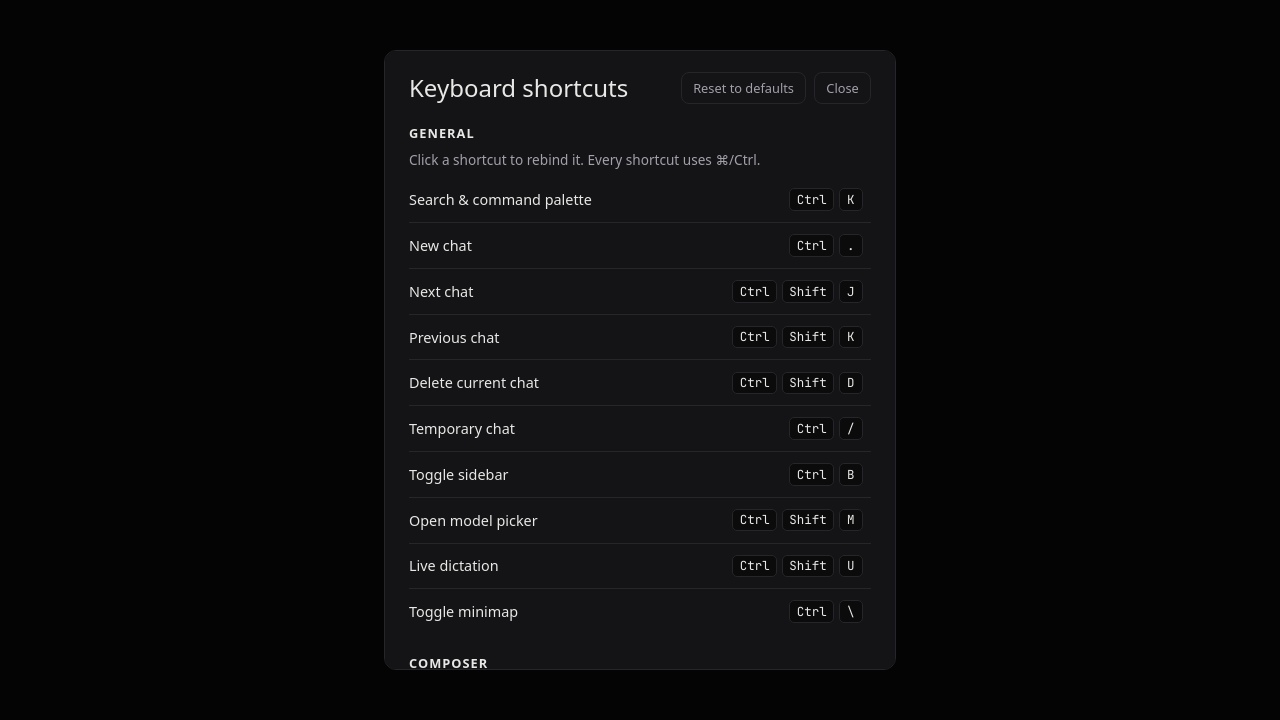
it: KeyboardSheet — rebinding › clicking a shortcut enters recording mode
Click the button "Ctrl B" at (826,474), box [781,459,871,490]
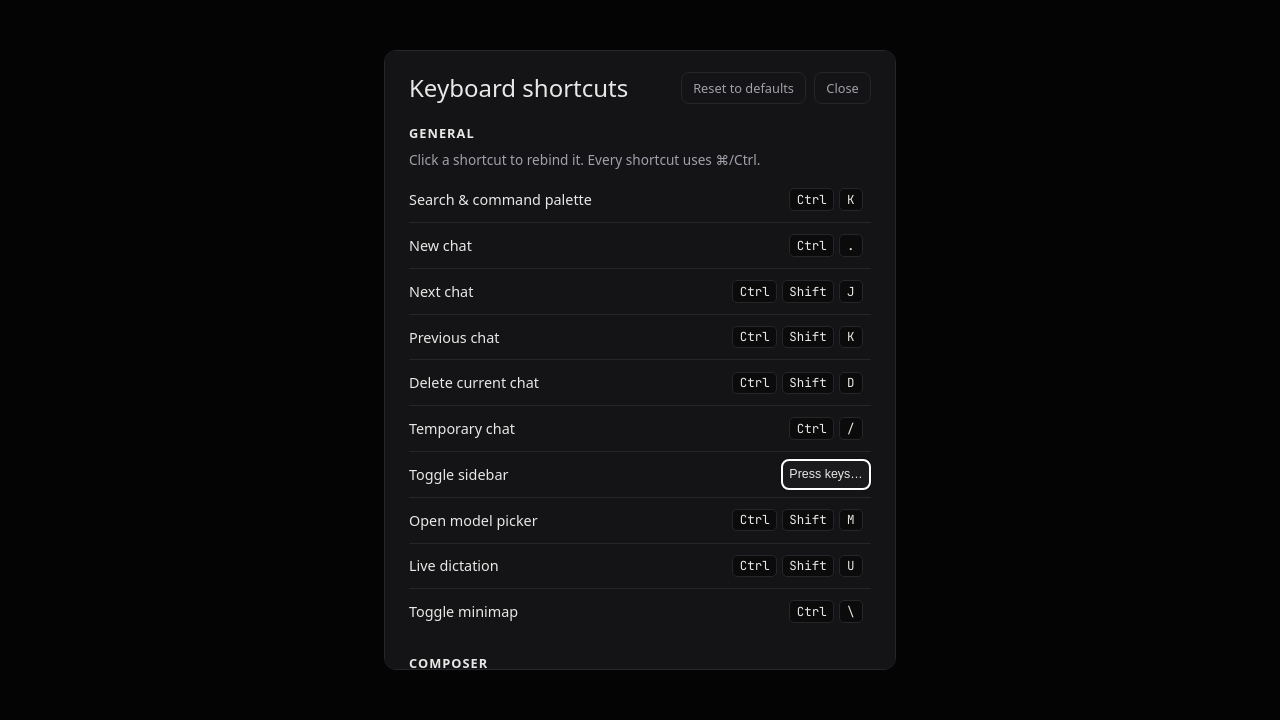
Result: the text "Press keys…" is shown at [789,467,863,481]
